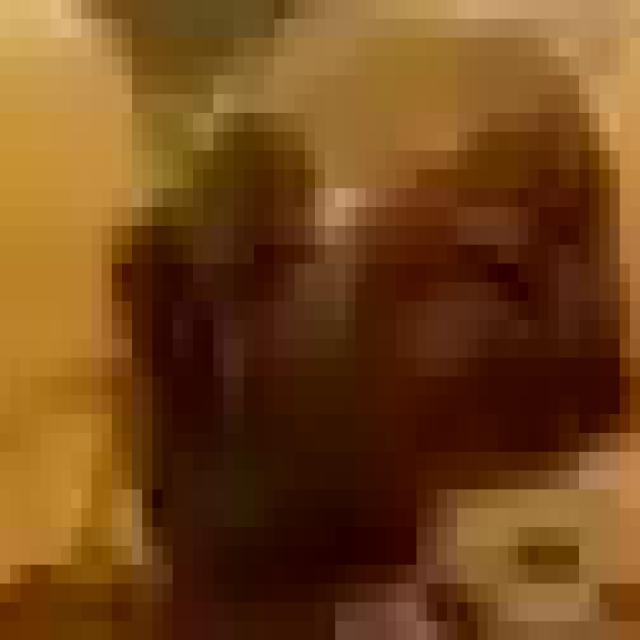honeybee: (88, 0, 376, 640)
